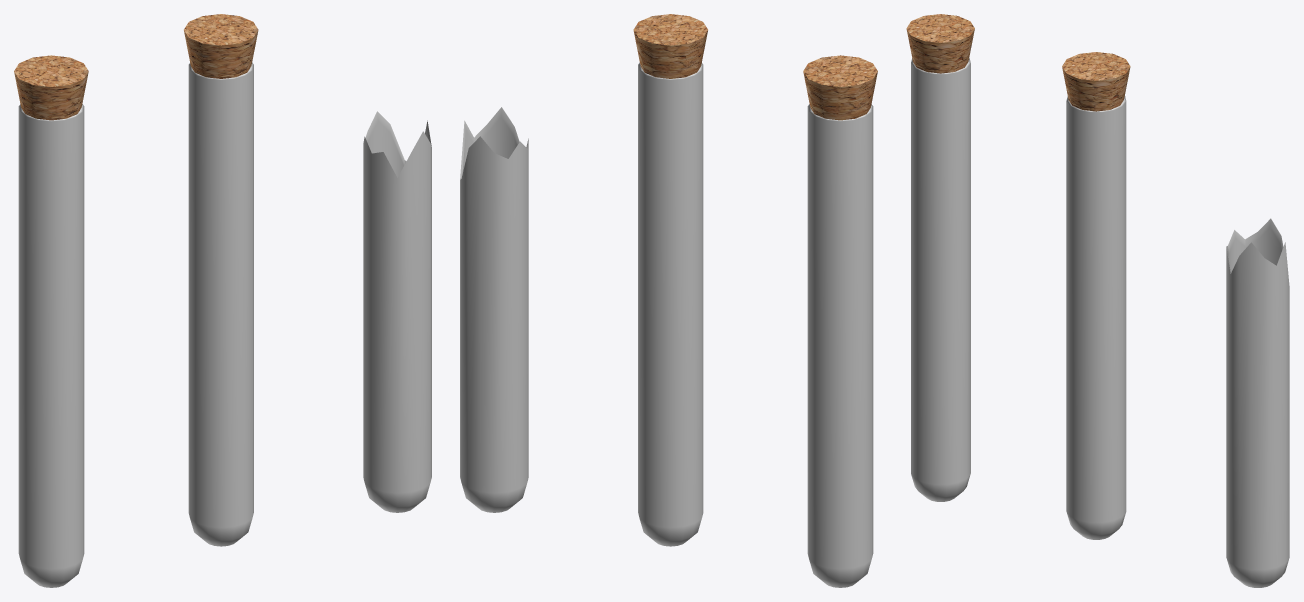
3 views of the same model, side by side, from view 1: azimuth 30°, elevation 25°; view 2: azimuth 150°, elevation 25°; view 3: azimuth 330°, elevation 25° (orthographic). The views are drawn at different scales.
Visible parts, largest first — view 1: Test_tube (×2), Test_tube_Broken, Cork (×2); view 2: Test_tube (×2), Test_tube_Broken, Cork (×2); view 3: Test_tube (×2), Test_tube_Broken, Cork (×2).
Part boxes in pixels (<box>): Test_tube (×2): <box>18,62,253,587</box>; Test_tube_Broken: <box>363,111,431,512</box>; Cork (×2): <box>14,14,258,120</box>; Test_tube (×2): <box>638,62,873,587</box>; Test_tube_Broken: <box>460,107,528,512</box>; Cork (×2): <box>633,14,877,120</box>; Test_tube (×2): <box>911,58,1126,539</box>; Test_tube_Broken: <box>1226,218,1289,587</box>; Cork (×2): <box>906,14,1130,111</box>.
Size of the model in its own units: 4.51 by 5.52 by 0.7152.
Materials: 3 (2 with a texture image).
